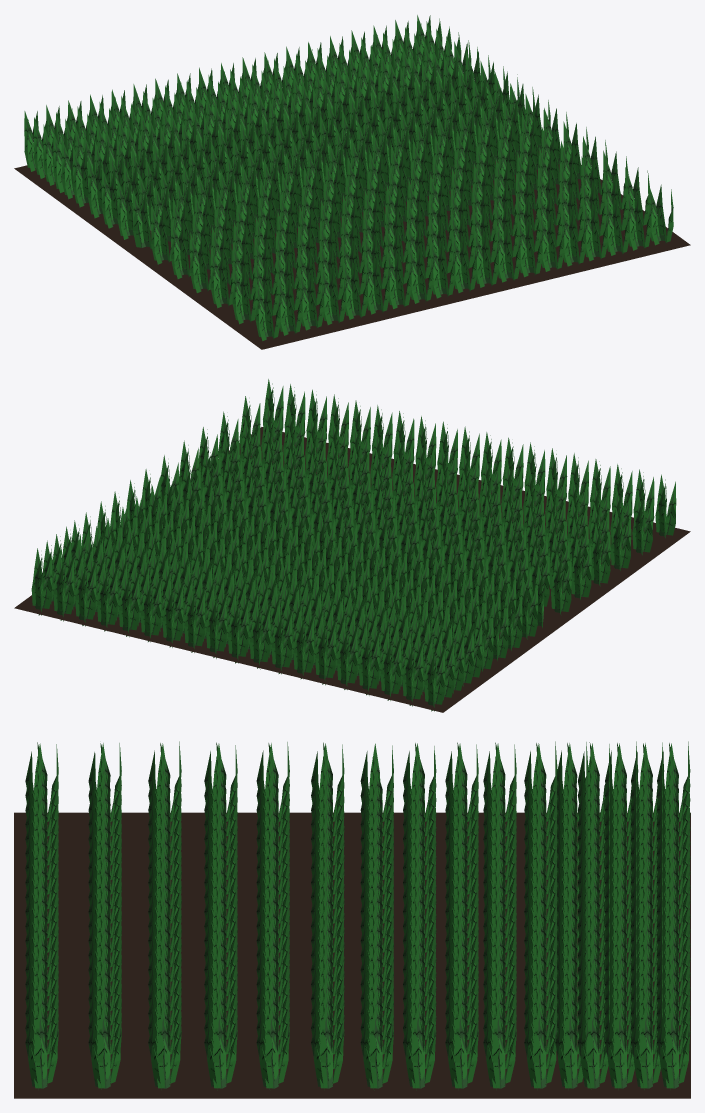
The model's file is grass_v_0_3.fbx.
3 renders of one model, top to bottom at view 1: azimuth 30°, elevation 25°; view 2: azimuth 150°, elevation 25°; view 3: azimuth 270°, elevation 25°, orthographic. The views are drawn at different scales.
Parts seen in each view (by area): view 1: Plane.015; view 2: Plane.015; view 3: Plane.015.
Boxes of the visible parts, bbox=[...] form: Plane.015: bbox=[14, 15, 690, 349]; Plane.015: bbox=[14, 379, 690, 712]; Plane.015: bbox=[14, 741, 690, 1098].
Bounding box in the file's own units: 144 × 144 × 21.18.
2 materials, 1 textured.
